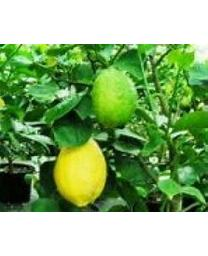lemon: (55, 139, 106, 207), (92, 69, 137, 129)
